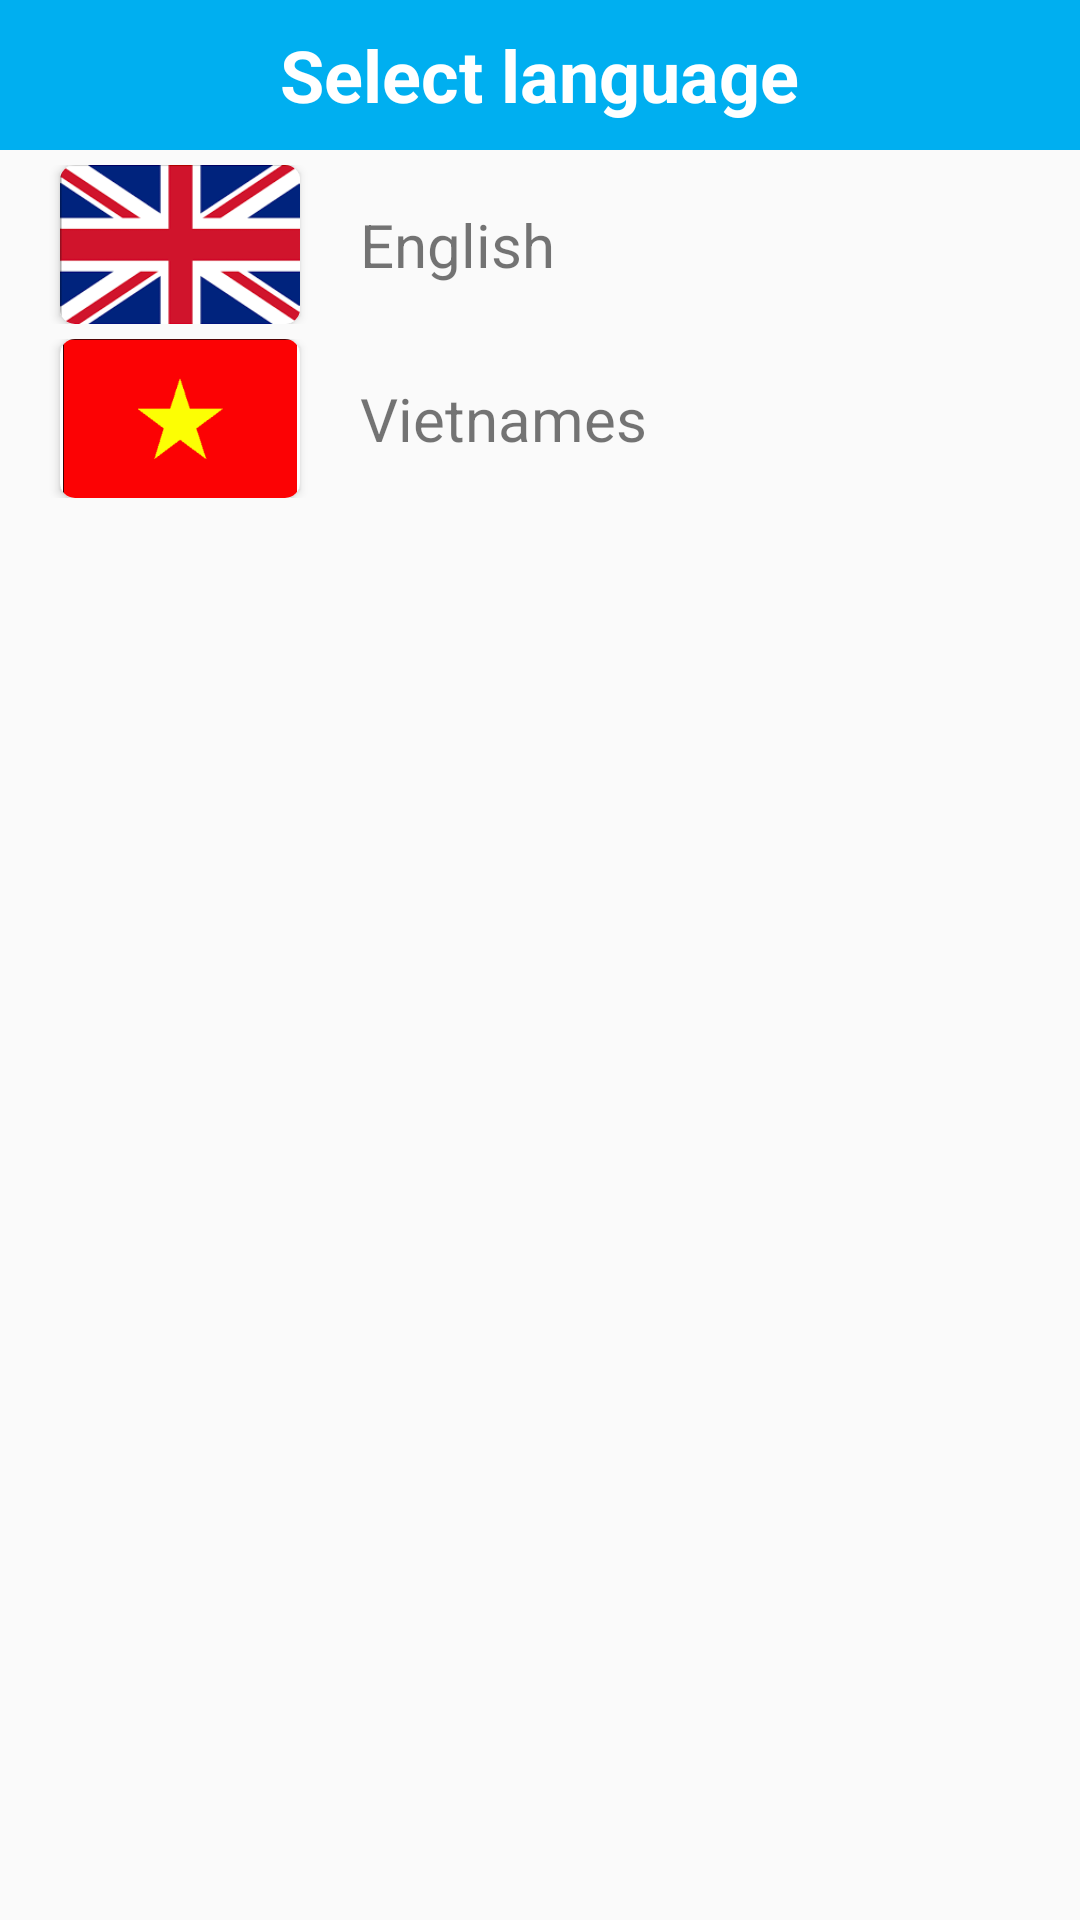

Point at icon controls on the screen. Image size 1080x1920, points as point (x, y).
conuocanh: point (180, 244)
covietnam: point (179, 418)
